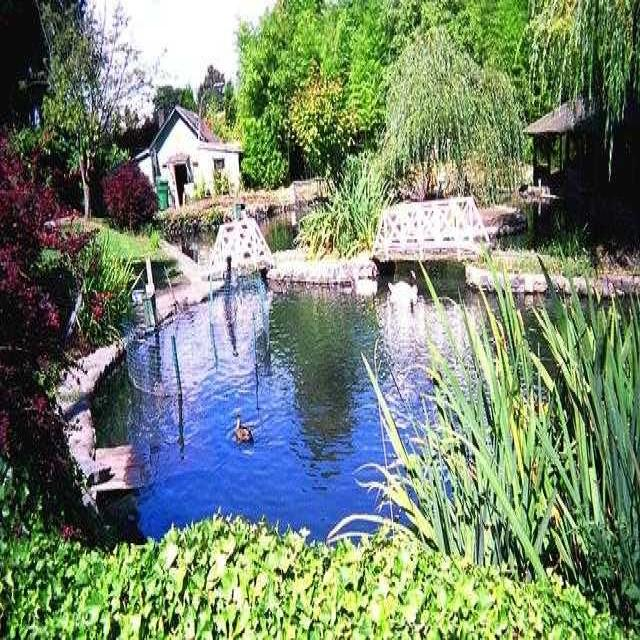Ponds: (55, 254, 640, 640)
